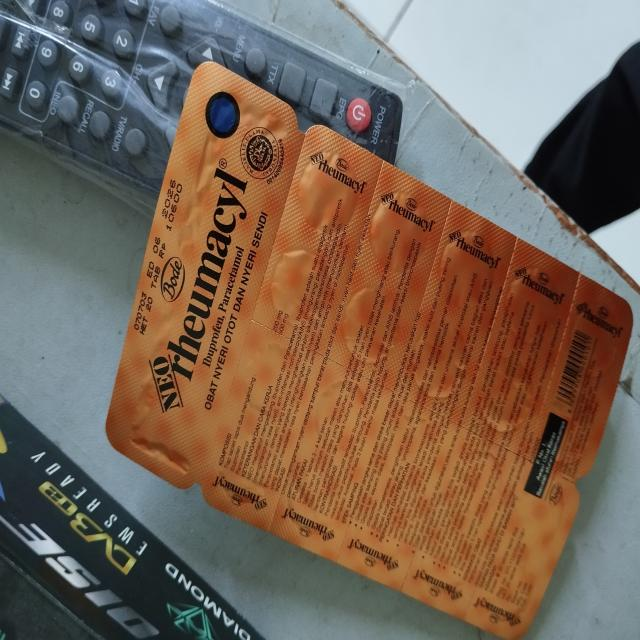B3: (108, 60, 634, 639)
